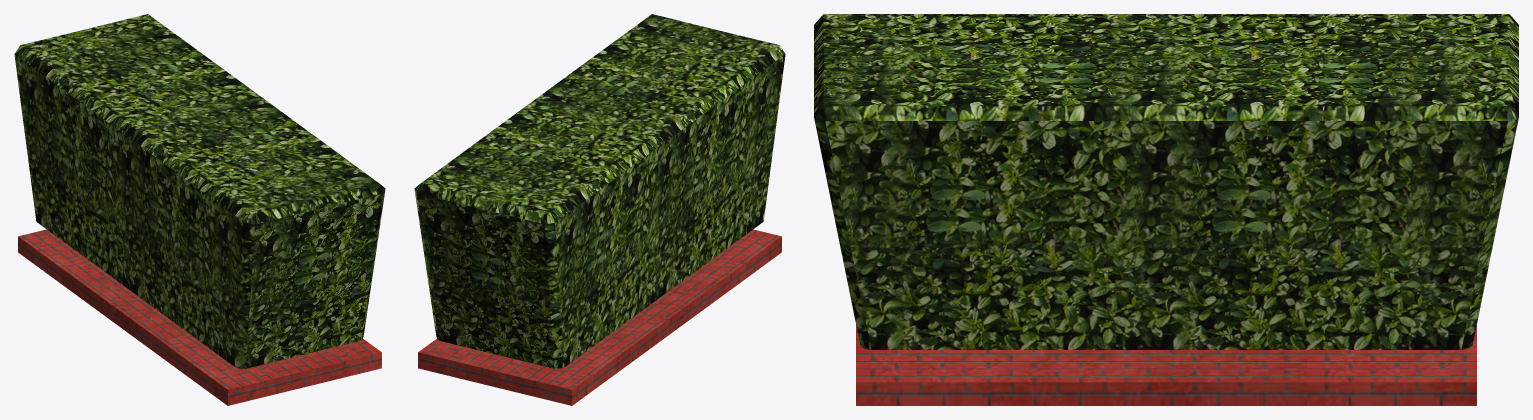
The model's file is Hedge.fbx.
The picture shows the model from 3 angles, left to right: view 1: azimuth 30°, elevation 25°; view 2: azimuth 150°, elevation 25°; view 3: azimuth 270°, elevation 25°; orthographic projection. The views are drawn at different scales.
Parts seen in each view (by area): view 1: pCube1; view 2: pCube1; view 3: pCube1.
Boxes of the visible parts, bbox=[...] form: pCube1: bbox=[14, 14, 385, 405]; pCube1: bbox=[414, 14, 785, 405]; pCube1: bbox=[814, 14, 1518, 405].
Size of the model in its own units: 219 by 266 by 585.
1 material, 1 textured.
